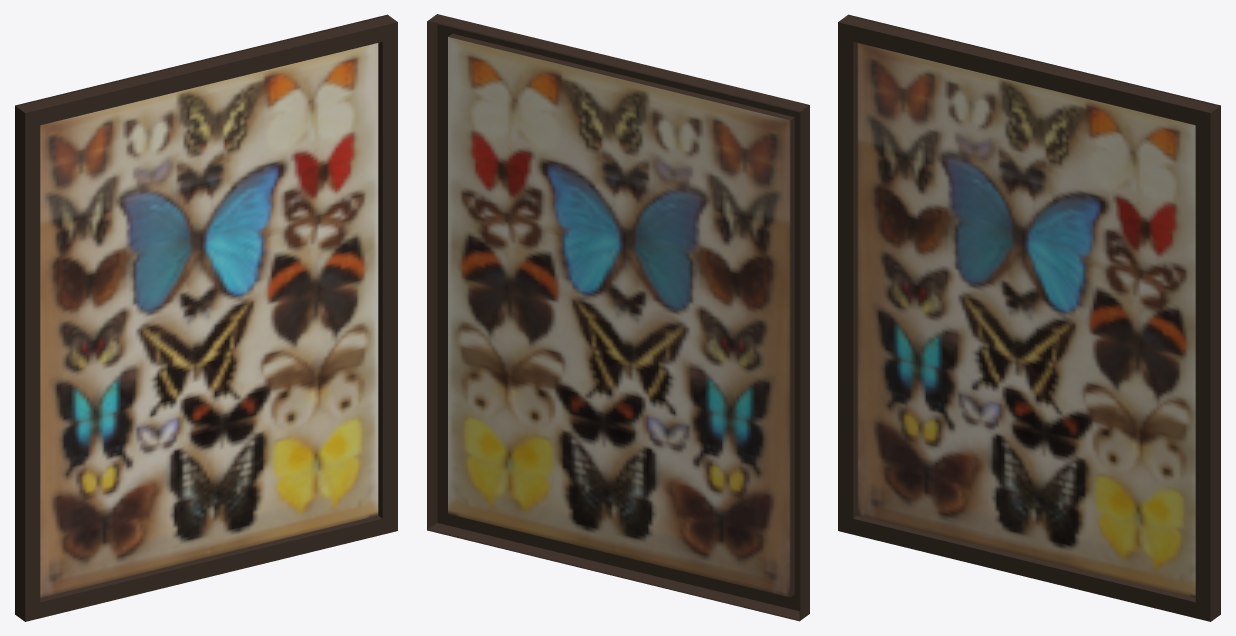
The model's file is butterfly_collection.FBX.
The picture shows the model from 3 angles, left to right: view 1: azimuth 30°, elevation 25°; view 2: azimuth 150°, elevation 25°; view 3: azimuth 330°, elevation 25°; orthographic projection.
Visible parts, largest first — view 1: butterfly_collection; view 2: butterfly_collection; view 3: butterfly_collection.
Boxes of the visible parts, x1,y1,x2,y2 form: butterfly_collection: (15,14,397,621); butterfly_collection: (427,14,809,621); butterfly_collection: (838,14,1220,621).
Size of the model in its own units: 50.32 by 65.65 by 2.6.
